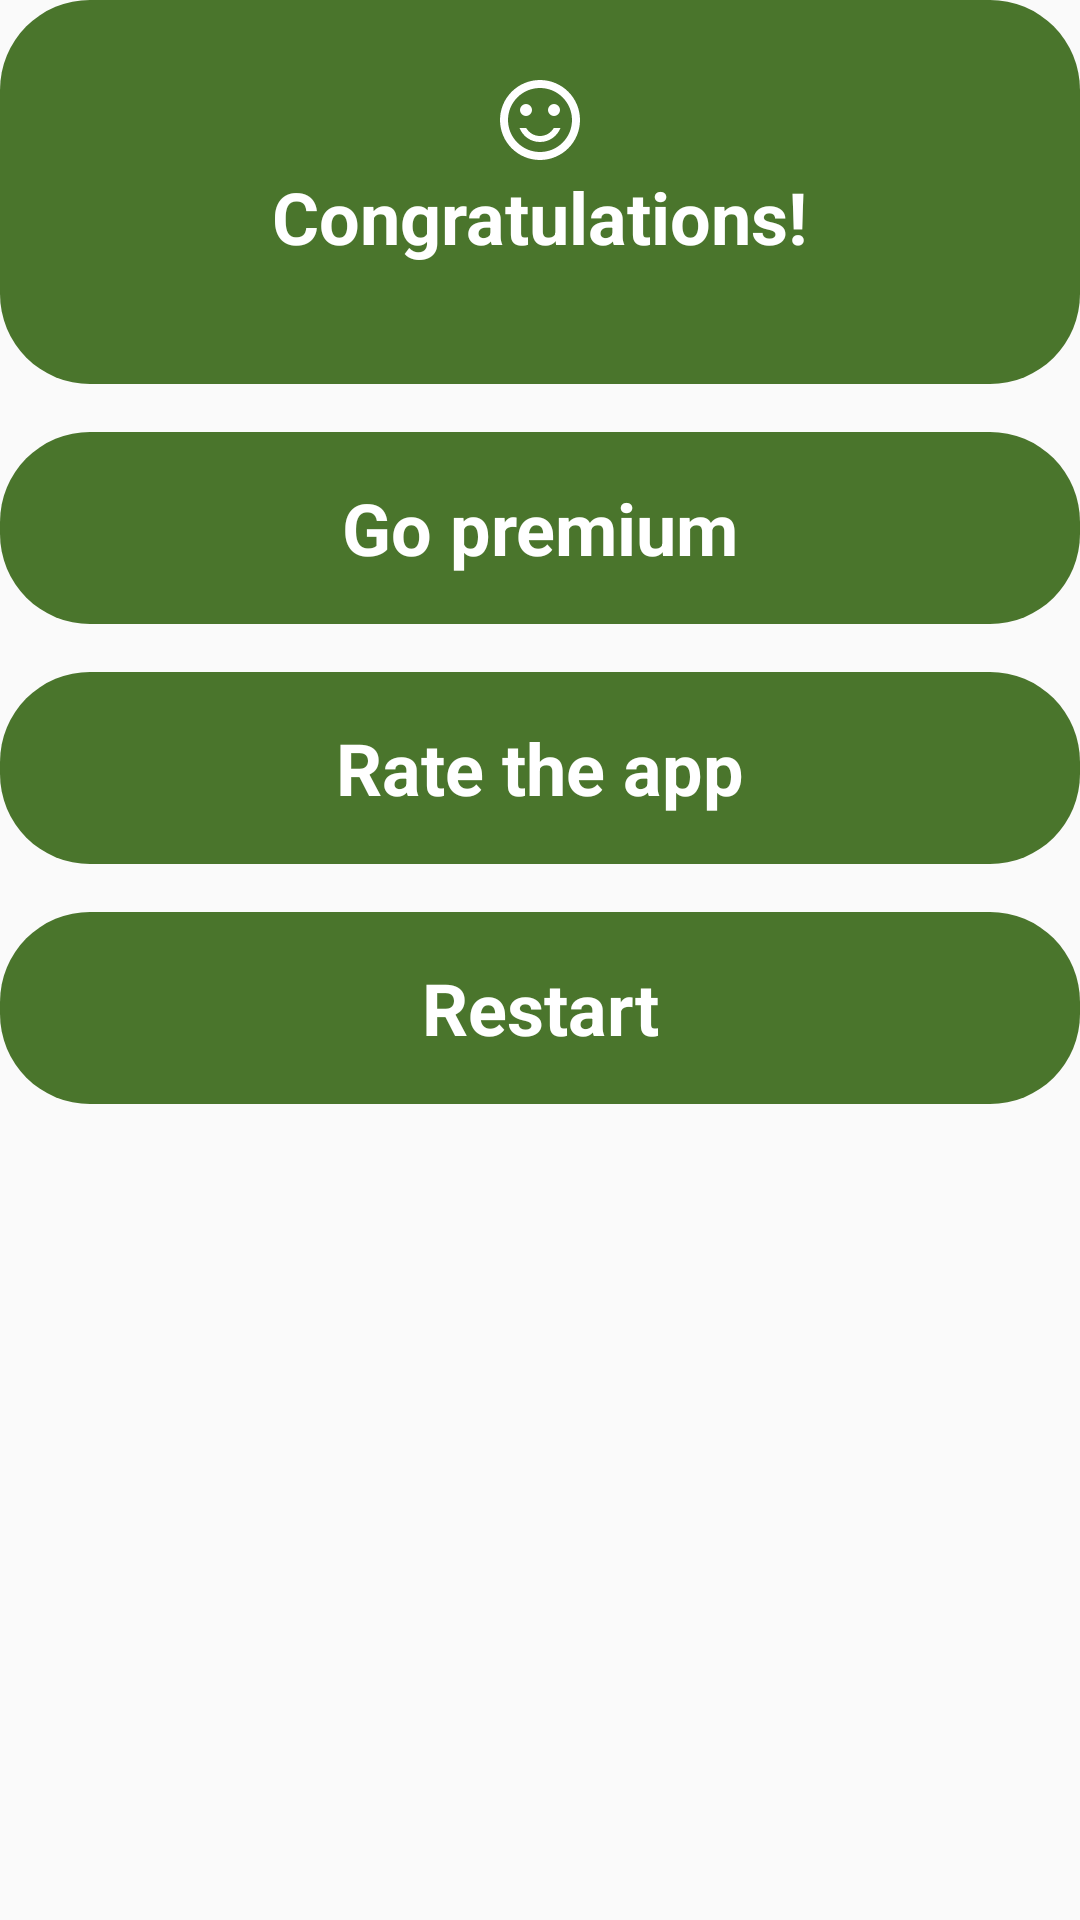

Where icons sit on this 1080w x 1920h app screen, as region(x1, y1, x2, y2):
game won: region(500, 80, 580, 160)
